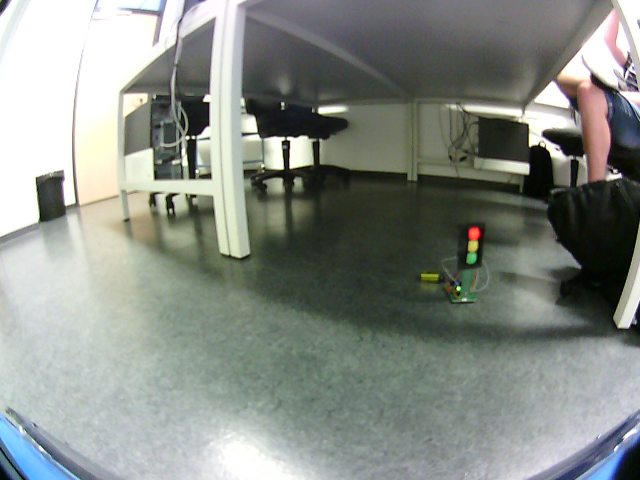red trafficlight: (464, 225, 483, 274)
